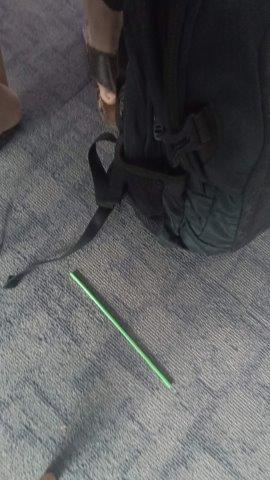sedotan: (69, 273, 171, 388)
